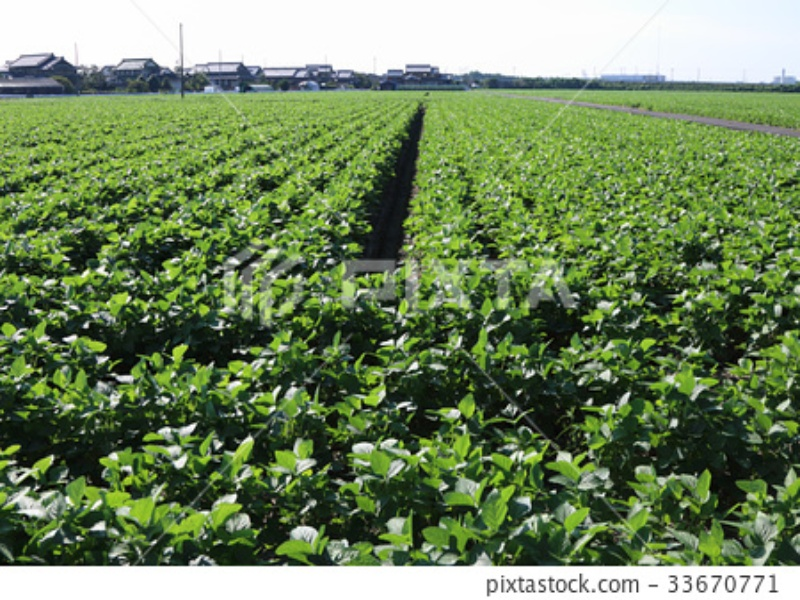soyabean: (4, 330, 790, 560), (13, 195, 191, 323), (636, 192, 789, 320)
